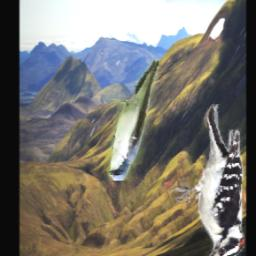Swallow: (107, 59, 159, 181)
Woodpecker: (169, 104, 245, 256)
